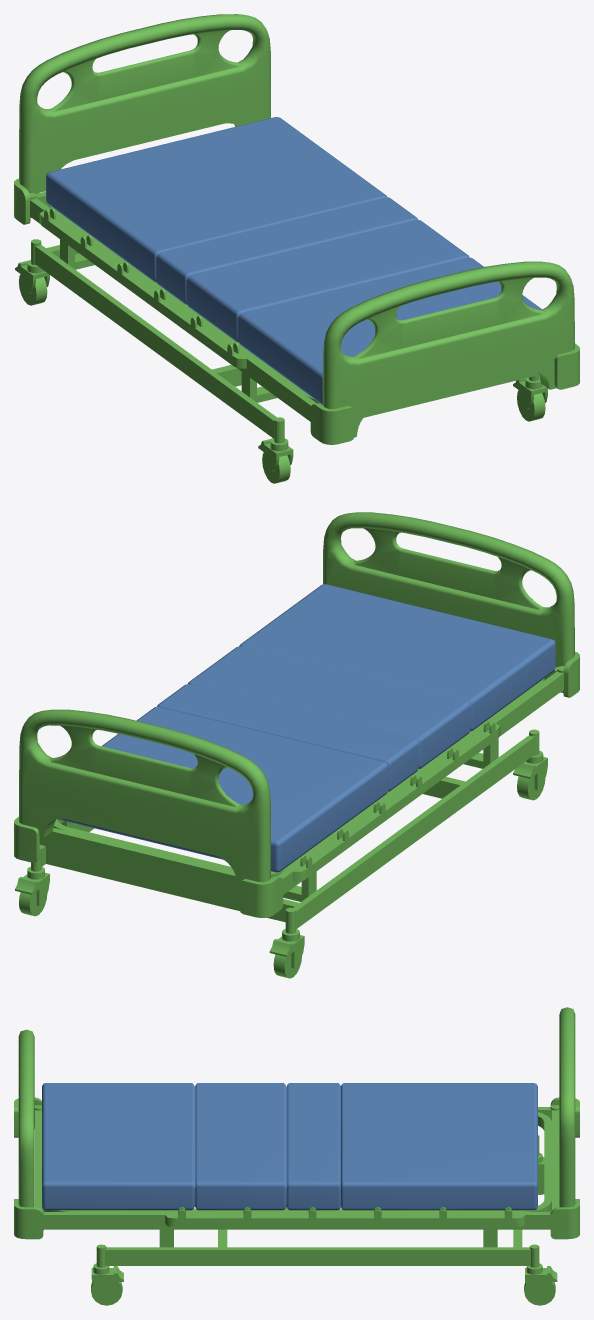
The model's file is SM_HospitalBed_02j.FBX.
The picture shows the model from 3 angles, top to bottom: view 1: azimuth 30°, elevation 25°; view 2: azimuth 150°, elevation 25°; view 3: azimuth 270°, elevation 25°; orthographic projection. The views are drawn at different scales.
Parts seen in each view (by area): view 1: SM_HospitalBed_02j_LOD0; view 2: SM_HospitalBed_02j_LOD0; view 3: SM_HospitalBed_02j_LOD0.
Boxes of the visible parts, x1,y1,x2,y2 form: SM_HospitalBed_02j_LOD0: (14, 14, 579, 483); SM_HospitalBed_02j_LOD0: (14, 512, 579, 978); SM_HospitalBed_02j_LOD0: (14, 1007, 579, 1305).
Size of what is drawn, in the model's own units: 109 by 89.09 by 221.
